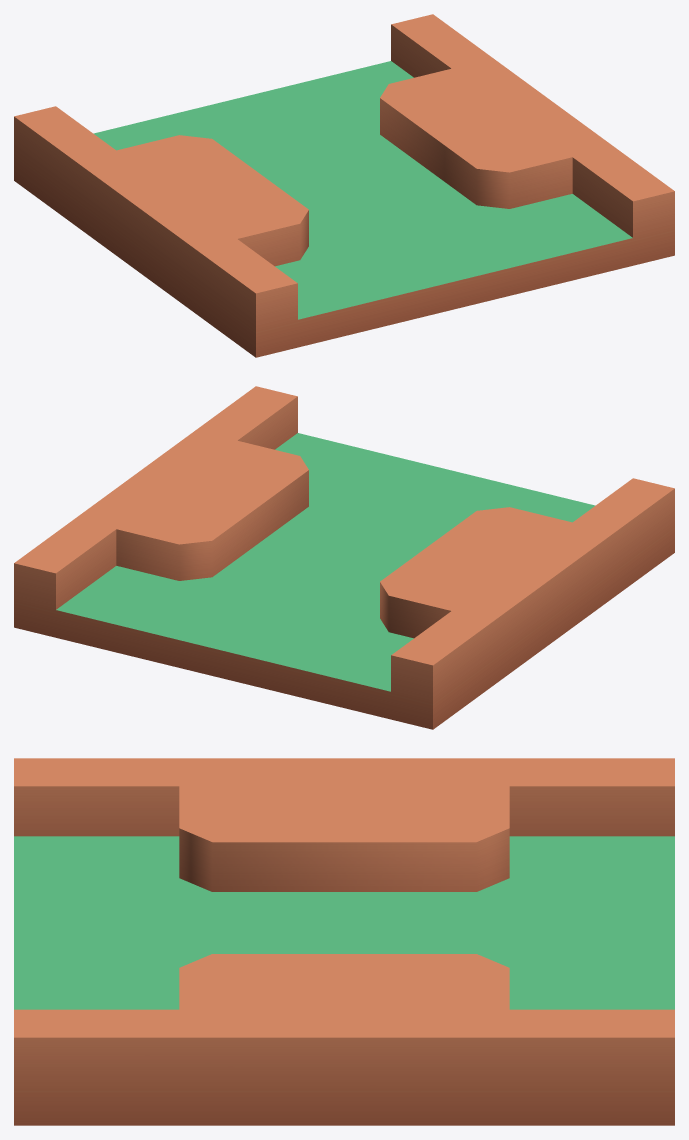
Rendered from narrow-block.glb.
The picture shows the model from 3 angles, top to bottom: view 1: azimuth 30°, elevation 25°; view 2: azimuth 150°, elevation 25°; view 3: azimuth 270°, elevation 25°; orthographic projection. The views are drawn at different scales.
Parts seen in each view (by area): view 1: narrow-block; view 2: narrow-block; view 3: narrow-block.
Boxes of the visible parts, x1,y1,x2,y2 form: narrow-block: (14,14,674,357); narrow-block: (14,386,674,729); narrow-block: (14,758,674,1125).
Bounding box in the file's own units: 0.9999 × 0.1467 × 0.9999.
Materials: 1 (1 with a texture image).
